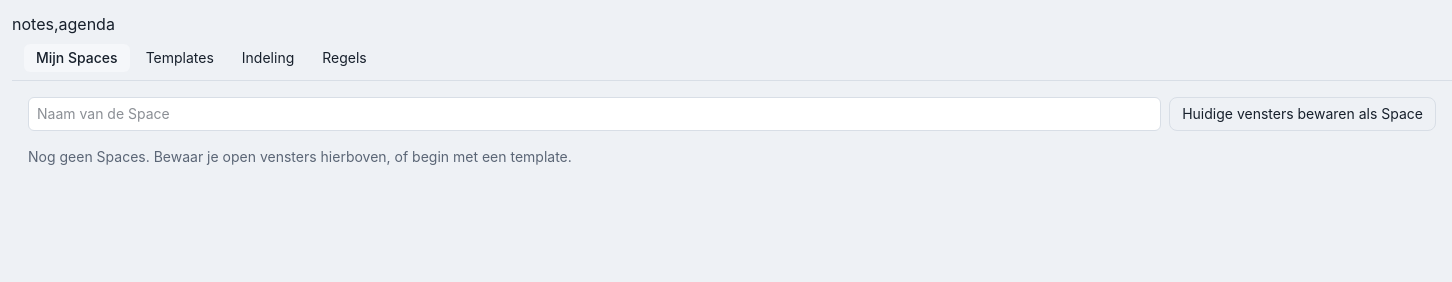
Test: Spaces › starts from a template, which opens its apps side by side
Step 1. Click the tab "Templates" → click(180, 58), box [134,44,226,72]
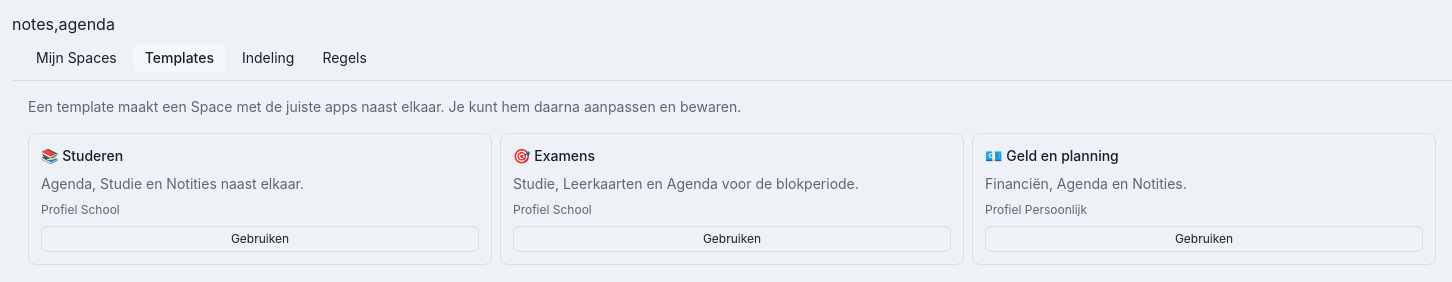
Step 2. Click the button "Gebruiken" below "Examens" → click(732, 239), box [513,226,951,252]
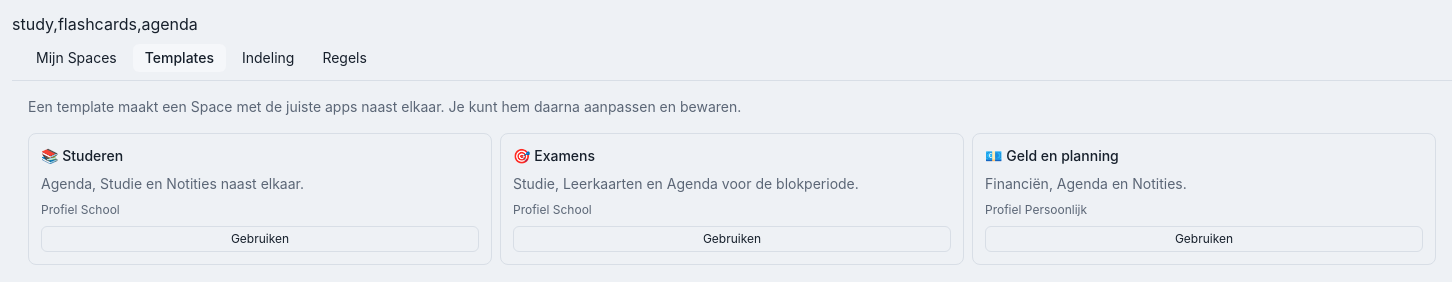
Now the text with test id "open" reads "study,flashcards,agenda", box [12,14,198,34]
